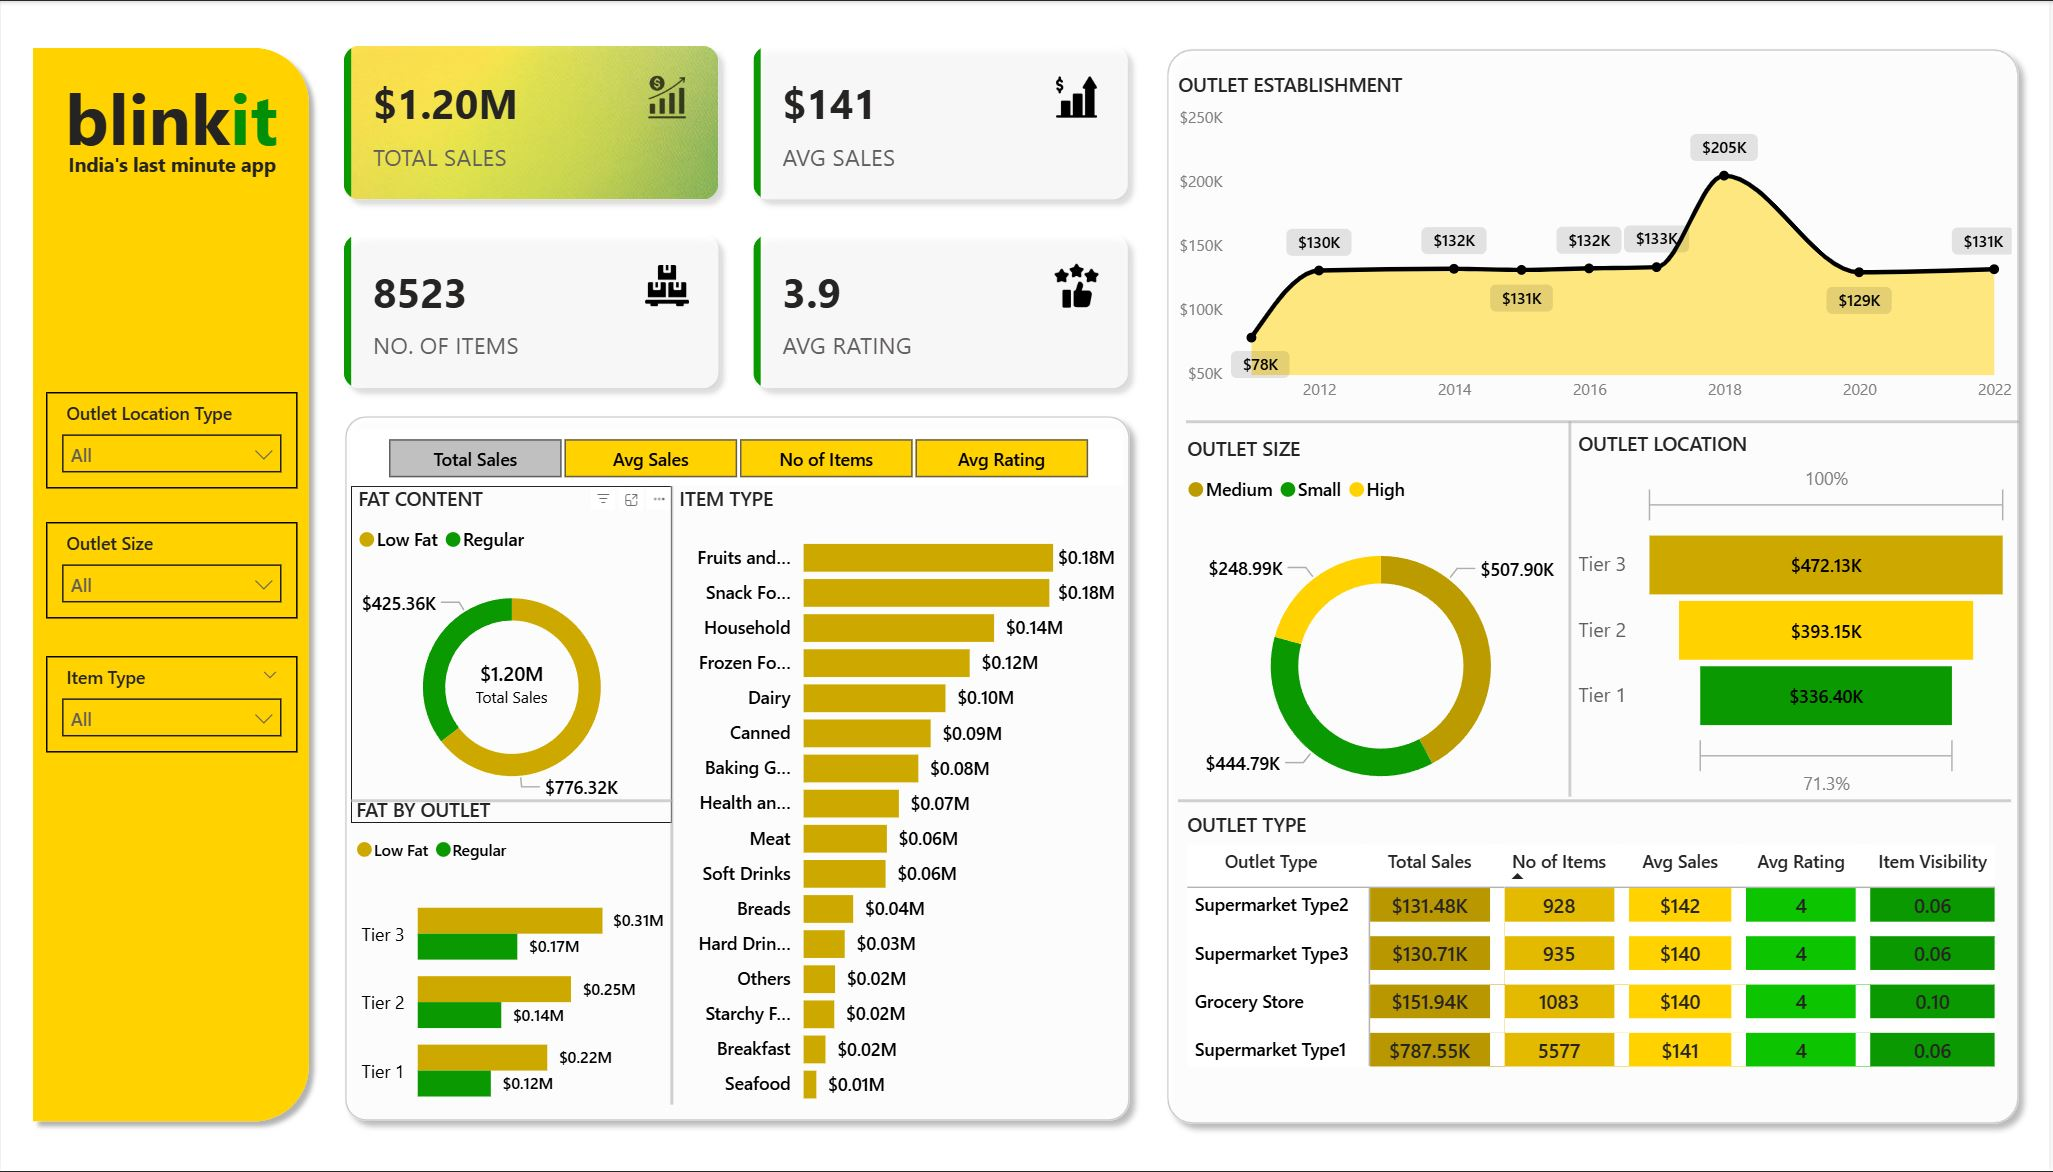

This screenshot's page, from the dashboard's own definition file:
{"tool":"powerbi","page":{"name":"Page 1","canvas":[1400,800],"ordinal":0},"visuals":[{"type":"shape","box":[13.8,23.9,204.8,750.3],"z":0},{"type":"textbox","box":[33.9,41.5,164.6,75.4],"z":1000},{"type":"textbox","box":[35.6,97.9,162.8,36.9],"z":2000},{"type":"cardVisual","fields":{"Data":["BlinkIT Grocery Data.Total Sales","BlinkIT Grocery Data.Avg Sales","BlinkIT Grocery Data.No of Items","BlinkIT Grocery Data.Avg Rating"]},"box":[217.4,14,570.9,269.6],"z":3000},{"type":"shape","box":[226.3,274.7,554.4,499.7],"z":4000},{"type":"donutChart","title":"FAT CONTENT","fields":{"Y":["BlinkIT Grocery Data.Total Sales"],"Category":["BlinkIT Grocery Data.Item Fat Content"]},"box":[239.1,331.9,220,230.2],"z":5000},{"type":"slicer","fields":{"Values":["Metrics.Metrics"]},"box":[239.1,292.5,527.7,39.4],"z":6000},{"type":"cardVisual","fields":{"Data":["BlinkIT Grocery Data.Total Sales"]},"box":[301.4,431.1,95.4,72.5],"z":7000},{"type":"clusteredBarChart","title":"FAT BY OUTLET","fields":{"Y":["BlinkIT Grocery Data.Total Sales"],"Category":["BlinkIT Grocery Data.Outlet Location Type"],"Series":["BlinkIT Grocery Data.Item Fat Content"]},"box":[237.8,544.2,220,230.2],"z":8000},{"type":"shape","box":[239.1,526.4,220,40.7],"z":9000},{"type":"shape","box":[348.4,331.9,220,423.4],"z":10000},{"type":"barChart","title":"ITEM TYPE","fields":{"Y":["BlinkIT Grocery Data.Total Sales"],"Category":["BlinkIT Grocery Data.Item Type"]},"box":[459,331.9,307.7,433.6],"z":11000},{"type":"shape","box":[788.4,24.2,600.2,752.8],"z":12000},{"type":"lineChart","title":"OUTLET ESTABLISHMENT","fields":{"Y":["BlinkIT Grocery Data.Total Sales"],"Category":["BlinkIT Grocery Data.Outlet Establishment Year"]},"box":[799.8,48.3,579.8,235.2],"z":13000},{"type":"shape","box":[810,267,569.7,40.7],"z":14000},{"type":"donutChart","title":"OUTLET SIZE","fields":{"Y":["BlinkIT Grocery Data.Total Sales"],"Category":["BlinkIT Grocery Data.Outlet Size"]},"box":[806.2,297.5,274.7,269.6],"z":15000},{"type":"shape","box":[962.6,287.4,220,256.9],"z":16000},{"type":"funnel","title":"OUTLET LOCATION","fields":{"Y":["BlinkIT Grocery Data.Total Sales"],"Category":["BlinkIT Grocery Data.Outlet Location Type"]},"box":[1073.2,293.7,305.2,255.6],"z":17000},{"type":"shape","box":[804.9,526.4,569.7,40.7],"z":18000},{"type":"pivotTable","title":"OUTLET TYPE","fields":{"Rows":["BlinkIT Grocery Data.Outlet Type"],"Values":["BlinkIT Grocery Data.Total Sales","BlinkIT Grocery Data.No of Items","BlinkIT Grocery Data.Avg Sales","BlinkIT Grocery Data.Avg Rating","Avg(BlinkIT Grocery Data.Item Visibility)"]},"box":[806.2,554.4,573.5,211.1],"z":19000},{"type":"slicer","fields":{"Values":["BlinkIT Grocery Data.Outlet Location Type"]},"box":[30.5,267,171.7,66.1],"z":20000},{"type":"slicer","fields":{"Values":["BlinkIT Grocery Data.Outlet Size"]},"box":[30.5,356,171.7,66.1],"z":21000},{"type":"slicer","fields":{"Values":["BlinkIT Grocery Data.Item Type"]},"box":[30.5,447.6,171.7,66.1],"z":22000}]}

Visuals, with their boxes in screenshot pixels (x1, y1, x2, y2), scaled from the page's 1400x800 canvas onto the 2053x1172 screenshot:
shape: left=20, top=35, right=321, bottom=1134
textbox: left=50, top=61, right=291, bottom=171
textbox: left=52, top=143, right=291, bottom=197
cardVisual - BlinkIT Grocery Data.Total Sales x BlinkIT Grocery Data.Avg Sales: left=319, top=21, right=1156, bottom=415
shape: left=332, top=402, right=1145, bottom=1134
"FAT CONTENT" donutChart: left=351, top=486, right=673, bottom=823
slicer - Metrics.Metrics: left=351, top=429, right=1124, bottom=486
cardVisual - BlinkIT Grocery Data.Total Sales: left=442, top=632, right=582, bottom=738
"FAT BY OUTLET" clusteredBarChart: left=349, top=797, right=671, bottom=1134
shape: left=351, top=771, right=673, bottom=831
shape: left=511, top=486, right=834, bottom=1107
"ITEM TYPE" barChart: left=673, top=486, right=1124, bottom=1121
shape: left=1156, top=35, right=2036, bottom=1138
"OUTLET ESTABLISHMENT" lineChart: left=1173, top=71, right=2023, bottom=415
shape: left=1188, top=391, right=2023, bottom=451
"OUTLET SIZE" donutChart: left=1182, top=436, right=1585, bottom=831
shape: left=1412, top=421, right=1734, bottom=797
"OUTLET LOCATION" funnel: left=1574, top=430, right=2021, bottom=805
shape: left=1180, top=771, right=2016, bottom=831
"OUTLET TYPE" pivotTable: left=1182, top=812, right=2023, bottom=1121
slicer - BlinkIT Grocery Data.Outlet Location Type: left=45, top=391, right=297, bottom=488
slicer - BlinkIT Grocery Data.Outlet Size: left=45, top=522, right=297, bottom=618
slicer - BlinkIT Grocery Data.Item Type: left=45, top=656, right=297, bottom=753
